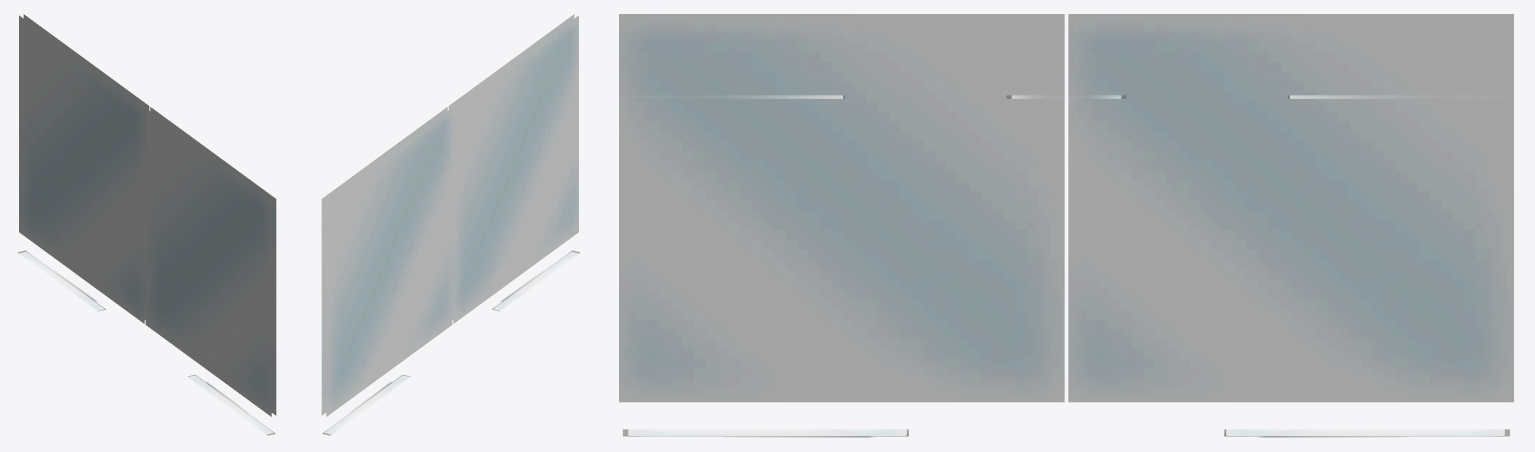
Rendered from my_shoppingmall_01_fence_01.glb.
3 views of the same model, side by side, from view 1: azimuth 30°, elevation 25°; view 2: azimuth 150°, elevation 25°; view 3: azimuth 270°, elevation 25° (orthographic). The views are drawn at different scales.
Parts seen in each view (by area): view 1: my_shoppingmall_01_fence_01_a, my_shoppingmall_01_fence_01; view 2: my_shoppingmall_01_fence_01_a, my_shoppingmall_01_fence_01; view 3: my_shoppingmall_01_fence_01_a, my_shoppingmall_01_fence_01.
Part boxes in pixels (box(x1,y1,x2,y2)): my_shoppingmall_01_fence_01_a: box(19, 14, 276, 416); my_shoppingmall_01_fence_01: box(18, 250, 275, 435); my_shoppingmall_01_fence_01_a: box(321, 14, 578, 416); my_shoppingmall_01_fence_01: box(322, 250, 579, 435); my_shoppingmall_01_fence_01_a: box(619, 14, 1513, 402); my_shoppingmall_01_fence_01: box(623, 95, 1509, 437).
Size of the model in its own units: 0.000611 by 0.00609 by 0.012.
Materials: 2 (2 with a texture image).
